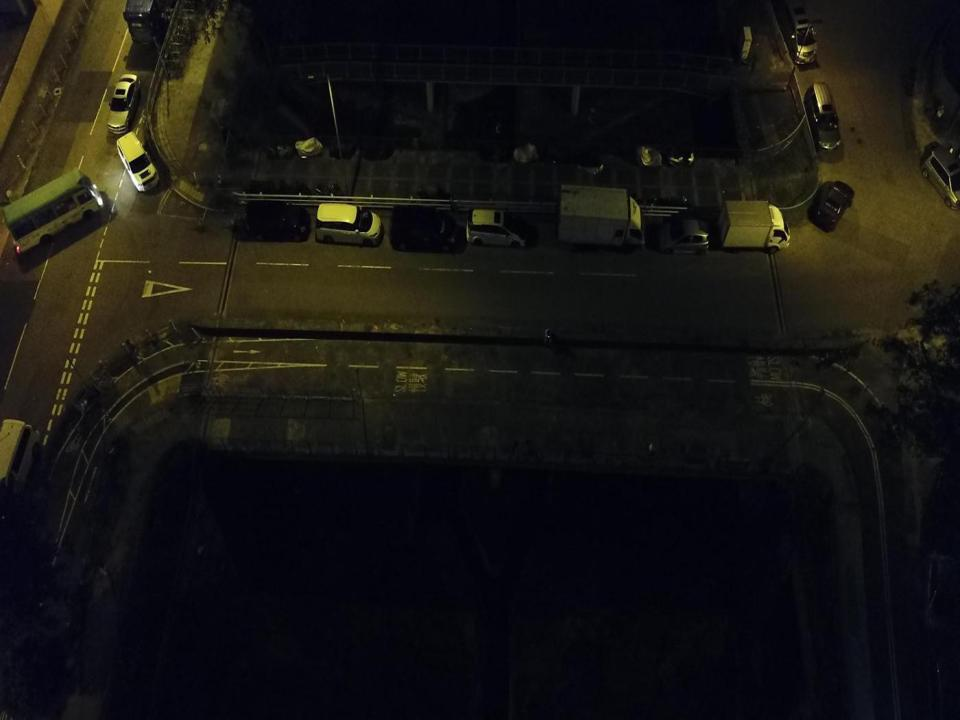bus: (2, 167, 104, 255)
car: (390, 203, 461, 250), (245, 197, 312, 242), (465, 207, 531, 248), (116, 131, 160, 192), (779, 0, 818, 65), (921, 147, 960, 210), (815, 180, 855, 233), (107, 72, 141, 134), (658, 216, 710, 256)
truck: (557, 183, 644, 252), (716, 199, 790, 254)
van: (0, 419, 41, 512), (316, 200, 382, 247), (804, 81, 841, 153)
